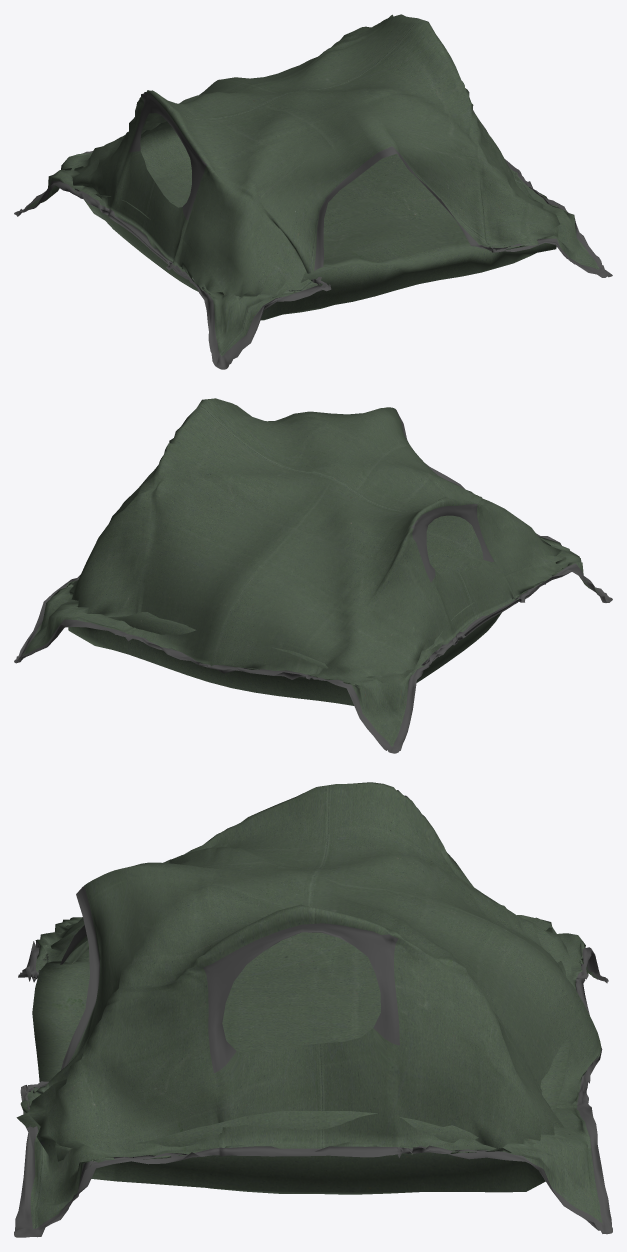
File: RuinedTent.fbx
3 views of the same model, one above another, from view 1: azimuth 30°, elevation 25°; view 2: azimuth 150°, elevation 25°; view 3: azimuth 270°, elevation 25° (orthographic). The views are drawn at different scales.
Parts seen in each view (by area): view 1: Tent; view 2: Tent; view 3: Tent.
Boxes of the visible parts, left/top/right/bottom form: Tent: left=14, top=14, right=612, bottom=369; Tent: left=14, top=398, right=612, bottom=753; Tent: left=14, top=782, right=612, bottom=1237.
Bounding box in the file's own units: 392 × 202 × 376.
